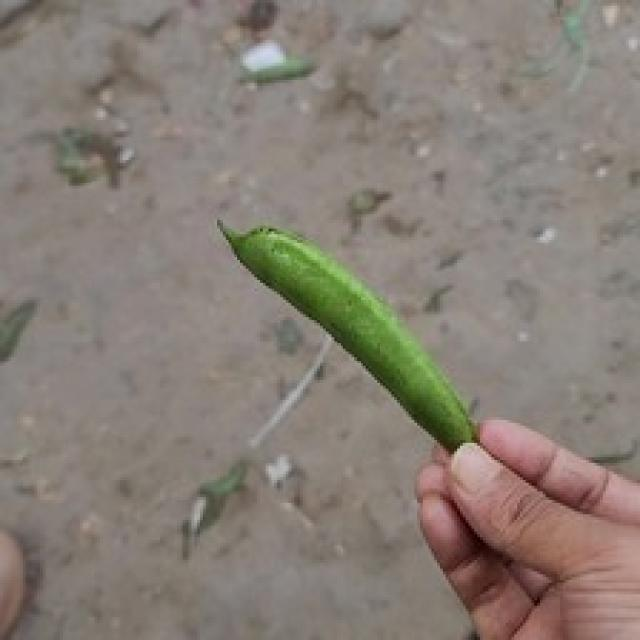Bean: (214, 215, 477, 454)
